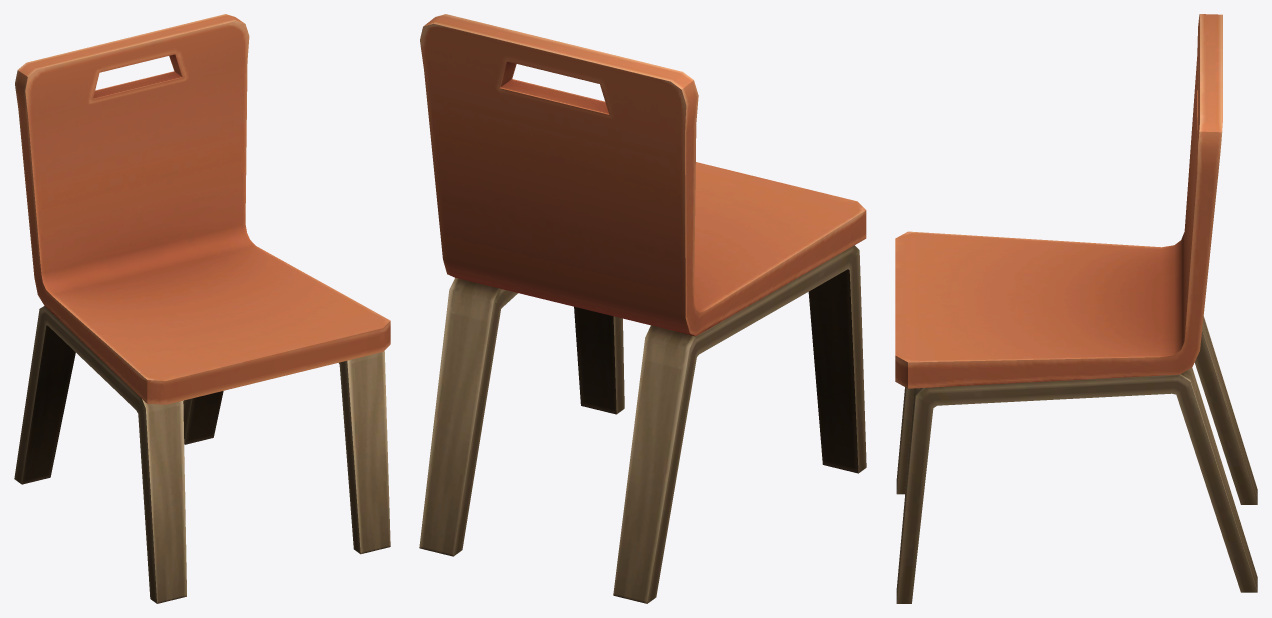
File: silla_textura.fbx
3 views of the same model, side by side, from view 1: azimuth 30°, elevation 25°; view 2: azimuth 150°, elevation 25°; view 3: azimuth 270°, elevation 25° (orthographic). The views are drawn at different scales.
Visible parts, largest first — view 1: s4studio_mesh_1; view 2: s4studio_mesh_1; view 3: s4studio_mesh_1.
Part boxes in pixels (box(x1,y1,x2,y2)): s4studio_mesh_1: box(14, 14, 390, 603); s4studio_mesh_1: box(419, 14, 866, 603); s4studio_mesh_1: box(895, 14, 1257, 603).
Bounding box in the file's own units: 55.07 × 92.88 × 64.42.
Materials: 1 (1 with a texture image).
